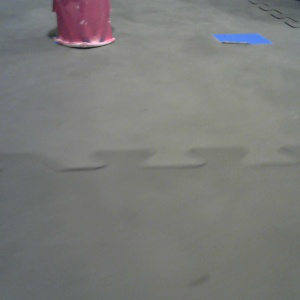middle: (52, 1, 116, 49)
